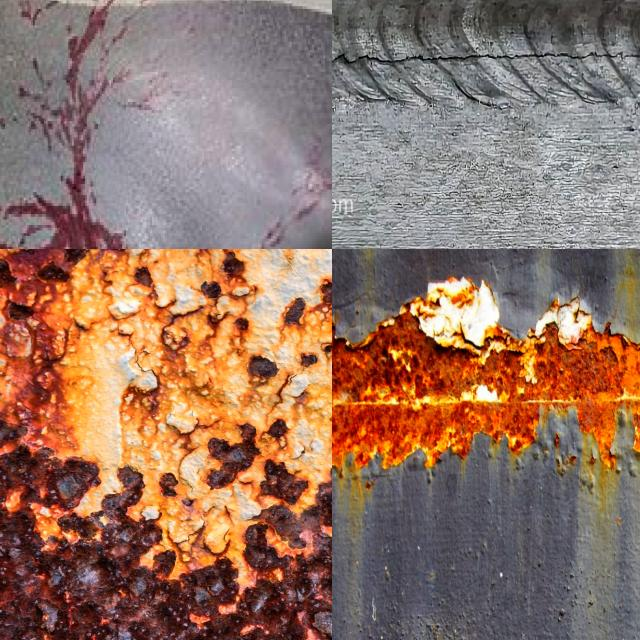Crack: (0, 1, 125, 249), (332, 51, 640, 73)
Pitting Corrosion: (0, 249, 332, 640), (332, 299, 640, 463)
